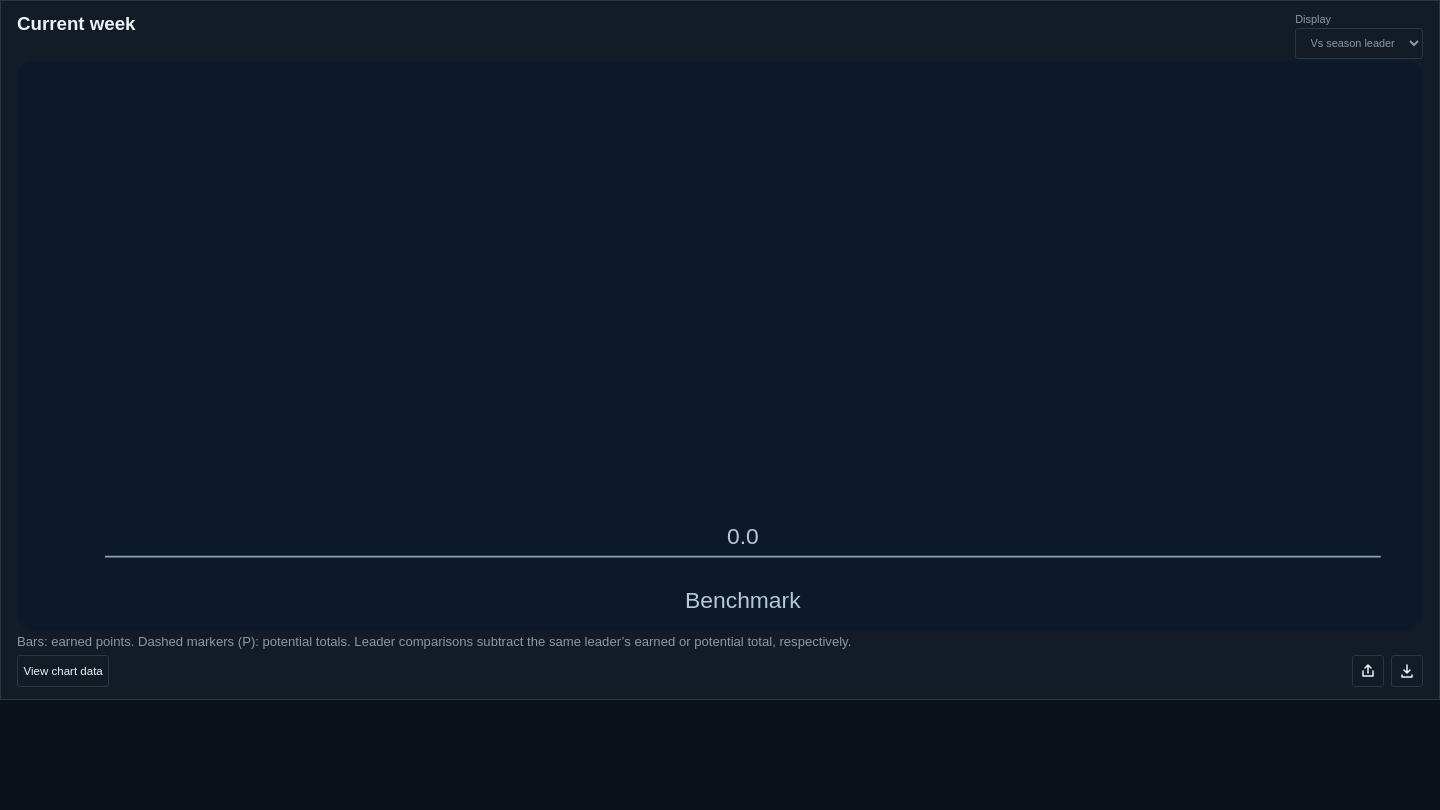
Test: shows actual losses and maximum possible losses using scoring stakes including GOTW
Select "Points lost" in the dropdown named "Current week display mode" at [1359, 43], box [1295,28,1423,59]
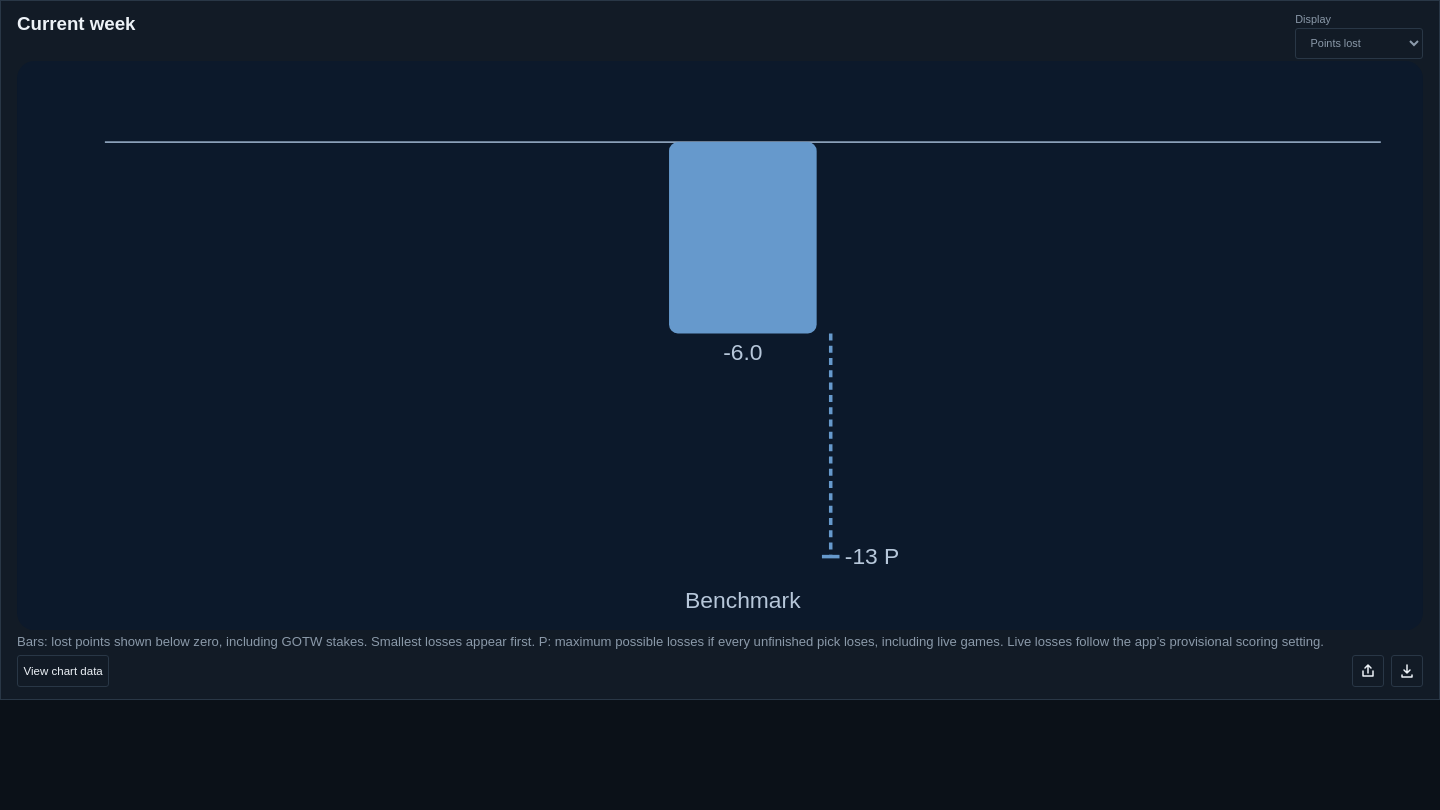
Result: the picture shows "-6.0" at [723,339,762,365]
